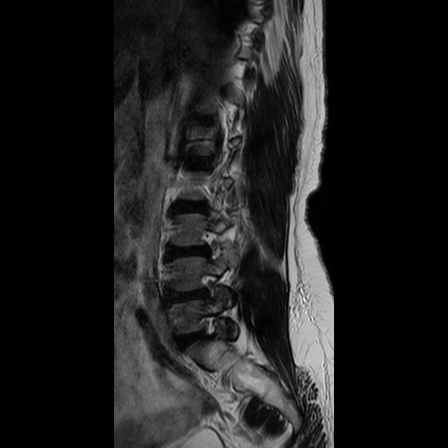RFS2: (191, 266, 232, 308)
